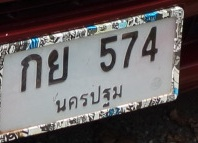txt01: (19, 53, 43, 94)
txt29: (46, 45, 70, 87)
